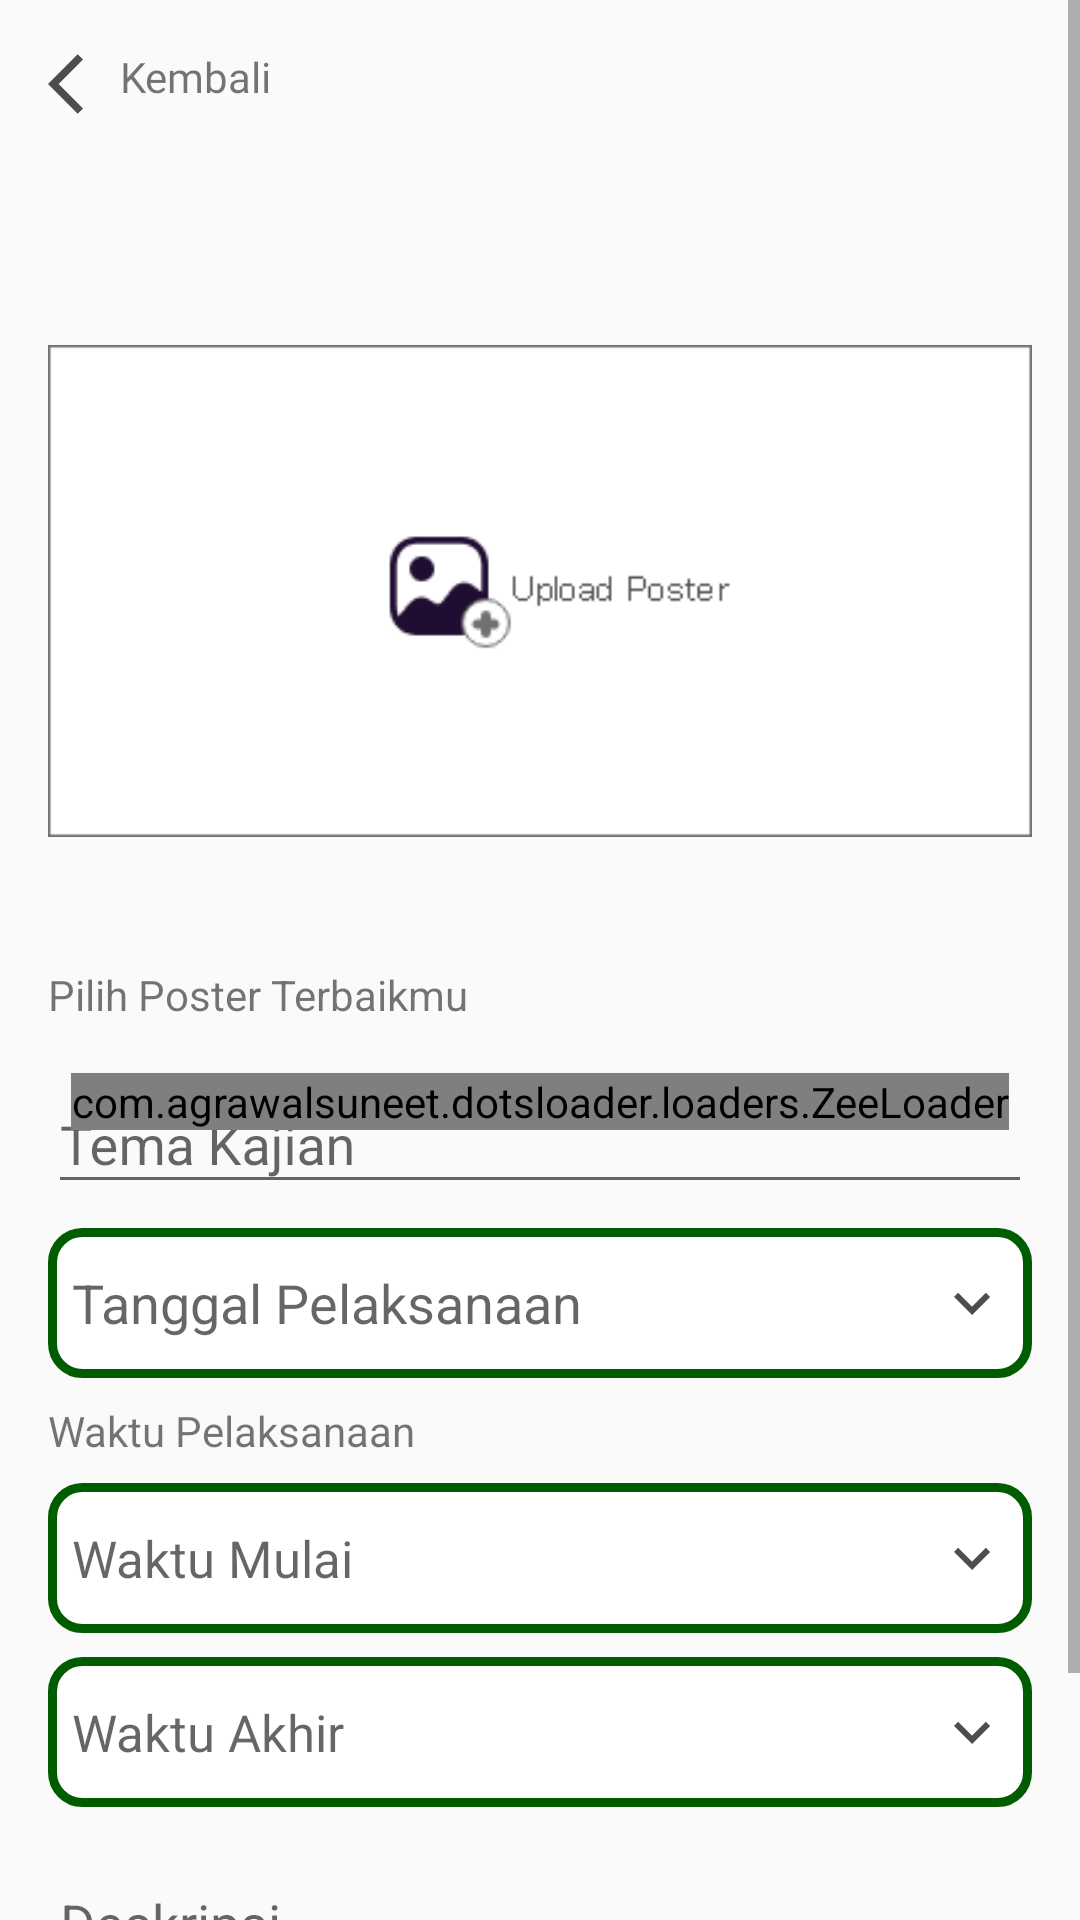

Screen size 1080px×1920px. Icon name, then its box in pixels as (x1, y1, x2, y2):
arrow down: (954, 1293, 990, 1315), (954, 1548, 990, 1570), (954, 1722, 990, 1744)
back: (48, 54, 83, 114)
